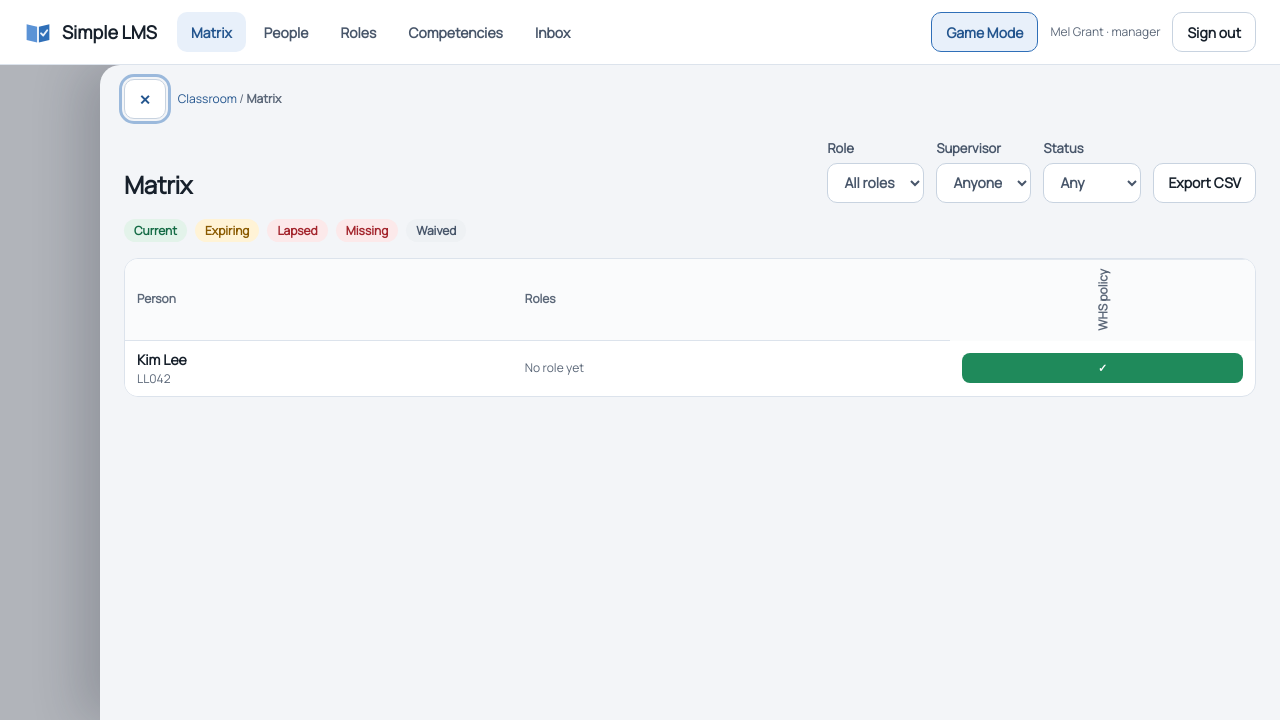
Test: competencies › shows who signed which version, and their signature
Click the button named "Kim Lee, WHS policy" at x=1102, y=368, box [962, 353, 1243, 383]
(page scrolled)
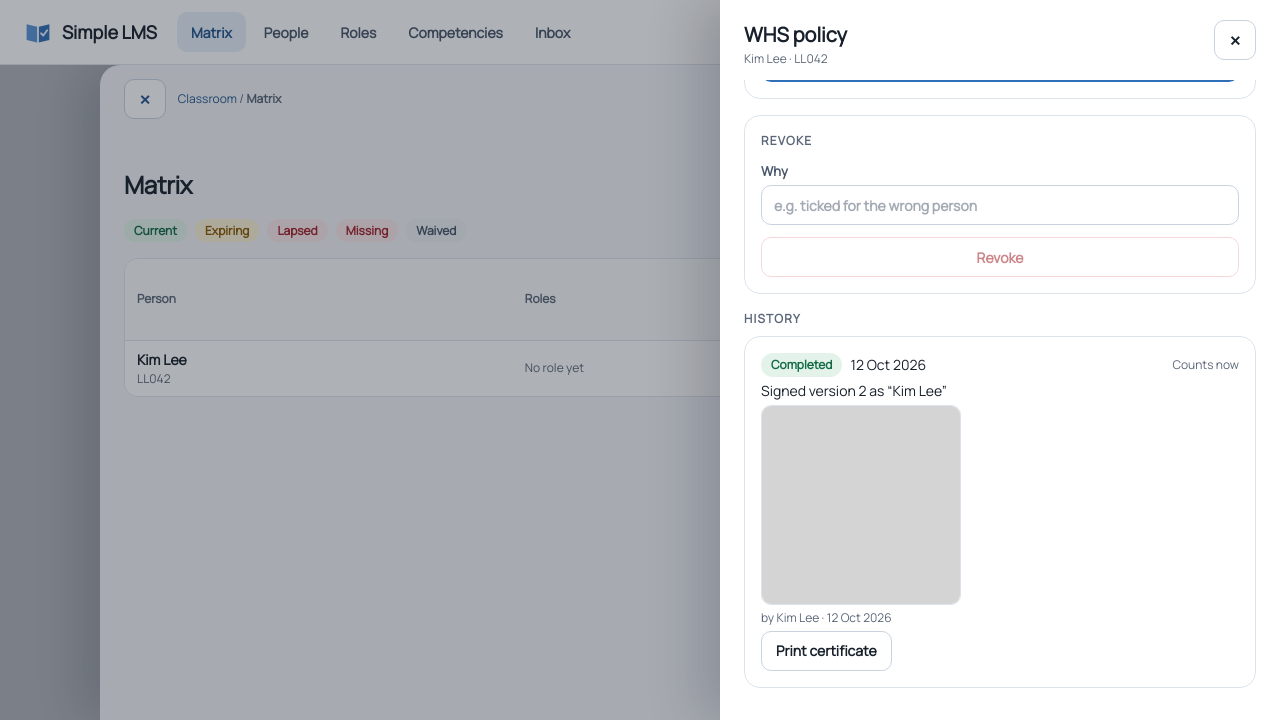
Now the text "Signed version 2 as “Kim Lee”" is shown, box [761, 381, 947, 400]
